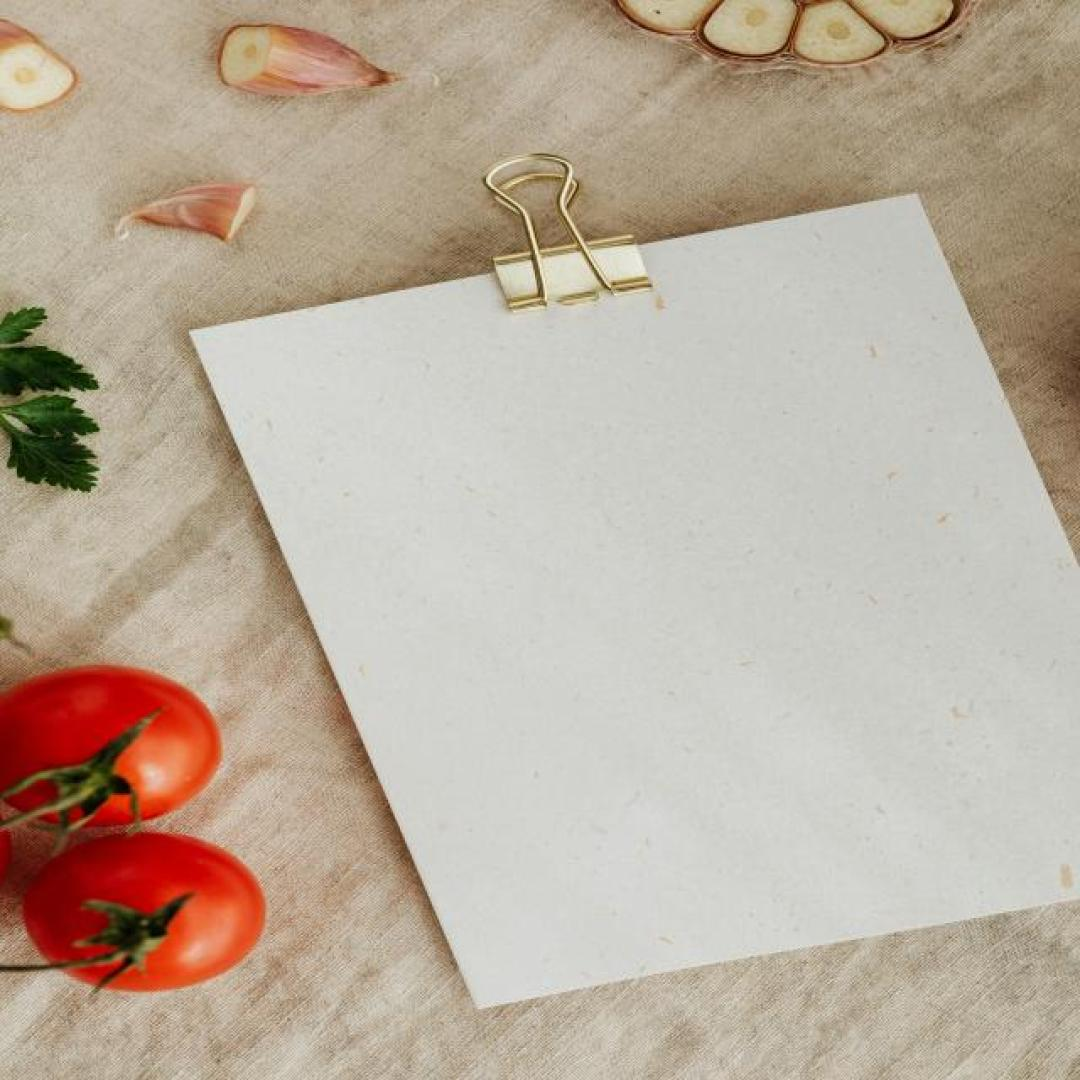matang: (24, 834, 270, 992), (3, 665, 223, 828)
